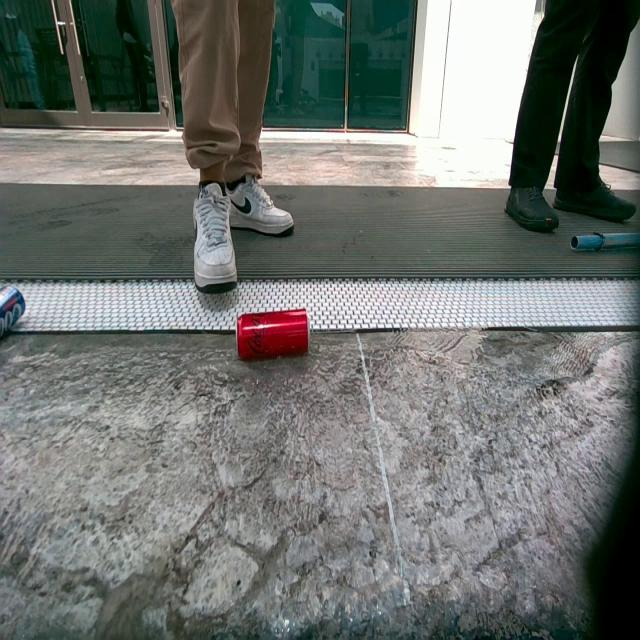Cans: (238, 312, 312, 365), (0, 286, 25, 355)
